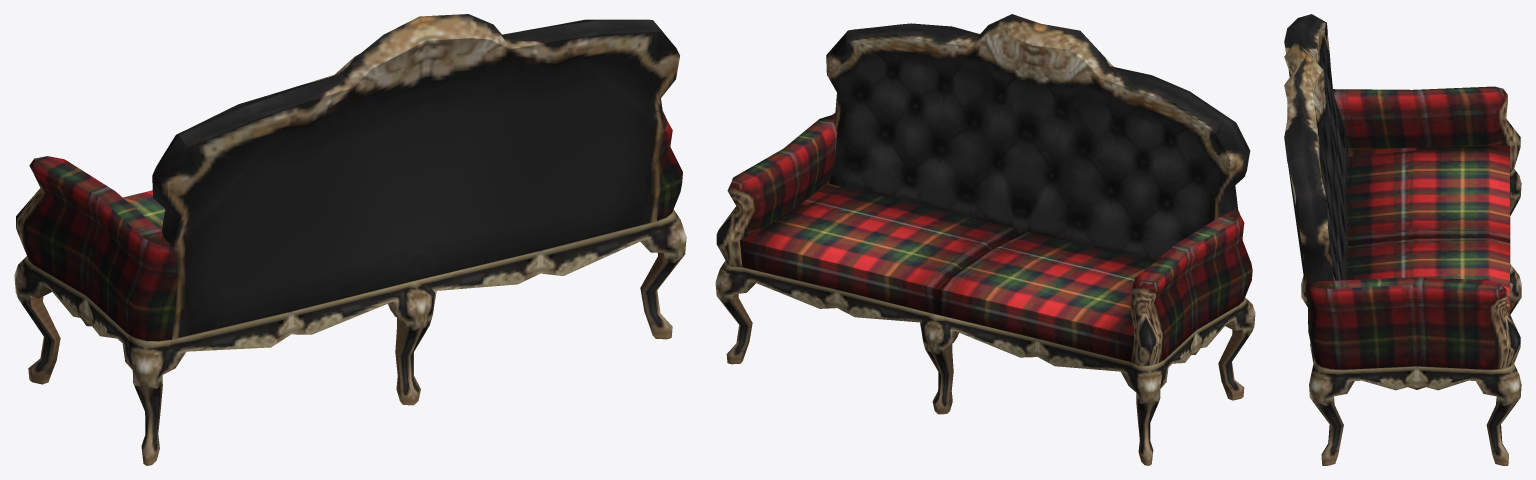
File: furni_0200311.FBX
3 renders of one model, left to right at view 1: azimuth 30°, elevation 25°; view 2: azimuth 150°, elevation 25°; view 3: azimuth 270°, elevation 25°, orthographic. The views are drawn at different scales.
Parts seen in each view (by area): view 1: furni_0200311; view 2: furni_0200311; view 3: furni_0200311.
Part boxes in pixels (bbox=[...]): furni_0200311: bbox=[14, 14, 686, 465]; furni_0200311: bbox=[715, 14, 1255, 465]; furni_0200311: bbox=[1284, 14, 1521, 465].
Size of the model in its own units: 158 by 108 by 74.98.
Materials: 1 (1 with a texture image).
